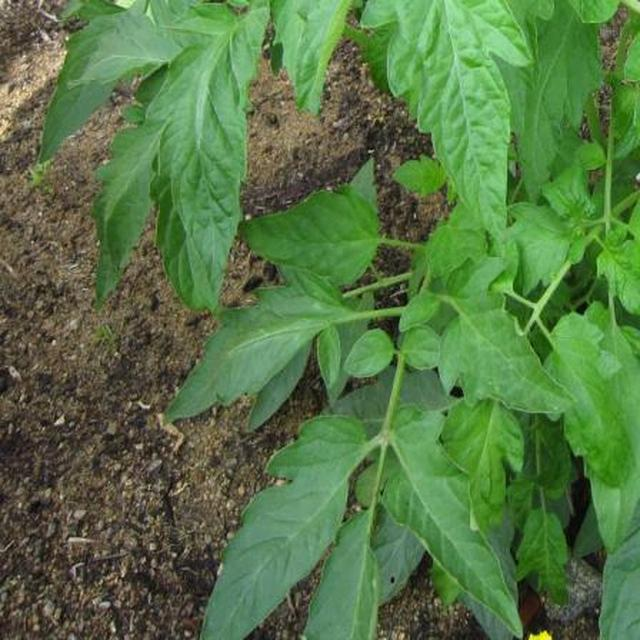Healthy Leaf: (128, 149, 640, 640)
